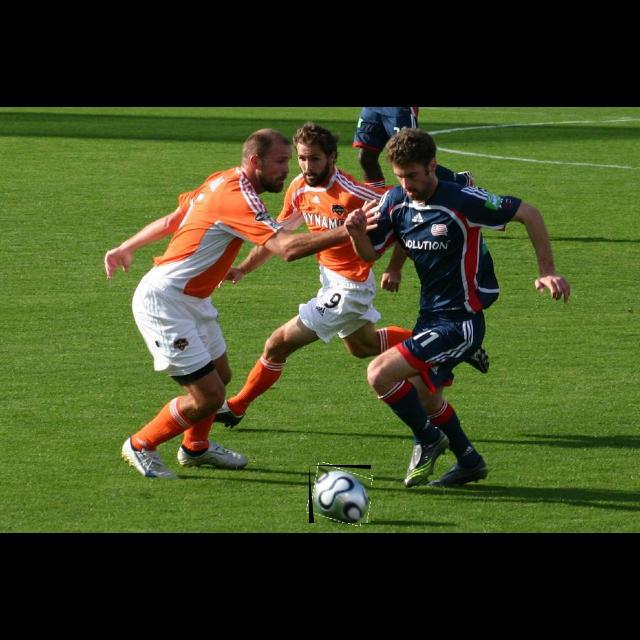Football: (309, 465, 371, 523)
